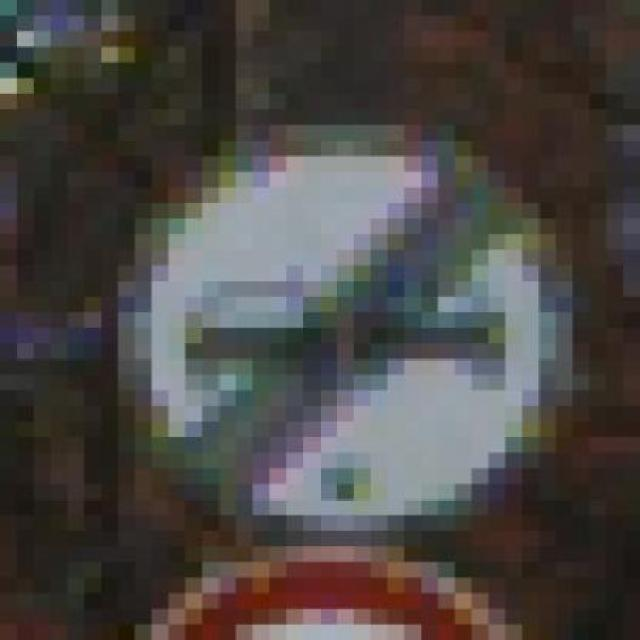No_Over_Taking: (101, 94, 590, 531)
